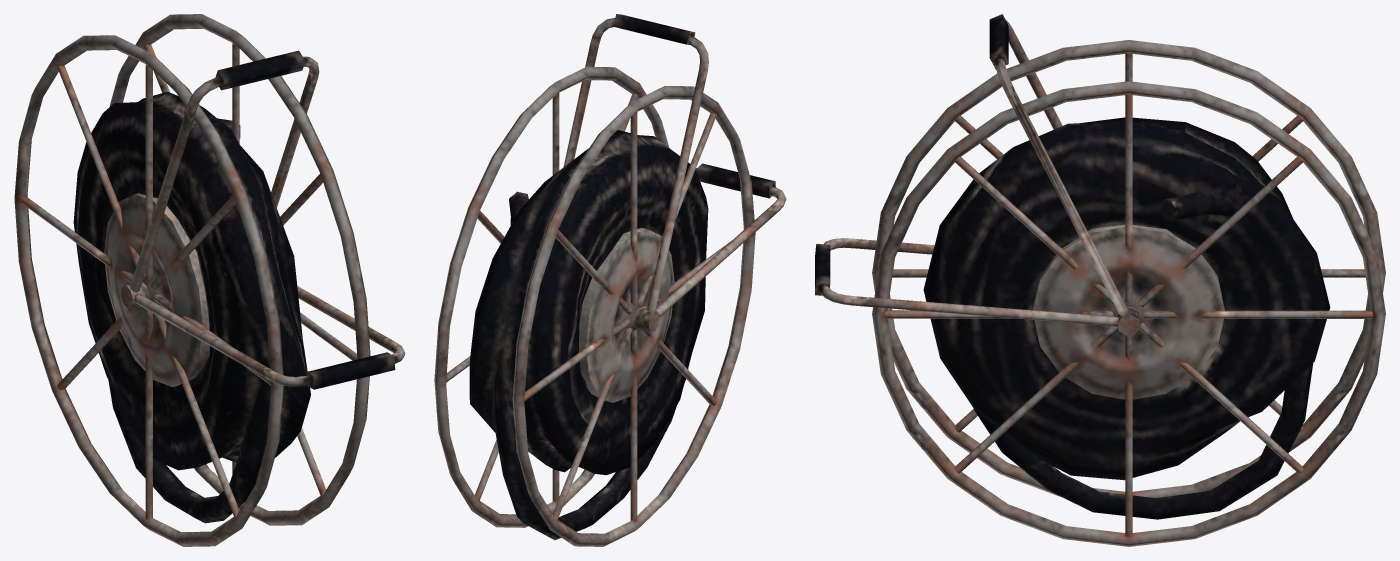
The model's file is sm22_046_verticalcurledhose01a.fbx.
3 views of the same model, side by side, from view 1: azimuth 30°, elevation 25°; view 2: azimuth 150°, elevation 25°; view 3: azimuth 270°, elevation 25° (orthographic). The views are drawn at different scales.
Visible parts, largest first — view 1: LOD_1_Group_0_Sub_1__sm22_046_VerticalCurledHose01A_A_Mat; view 2: LOD_1_Group_0_Sub_1__sm22_046_VerticalCurledHose01A_A_Mat; view 3: LOD_1_Group_0_Sub_1__sm22_046_VerticalCurledHose01A_A_Mat.
Part boxes in pixels (left/top/right/bottom): LOD_1_Group_0_Sub_1__sm22_046_VerticalCurledHose01A_A_Mat: left=14, top=14, right=405, bottom=546; LOD_1_Group_0_Sub_1__sm22_046_VerticalCurledHose01A_A_Mat: left=434, top=14, right=786, bottom=546; LOD_1_Group_0_Sub_1__sm22_046_VerticalCurledHose01A_A_Mat: left=815, top=14, right=1385, bottom=546.
Size of the model in its own units: 0.2751 by 0.9691 by 1.02.
